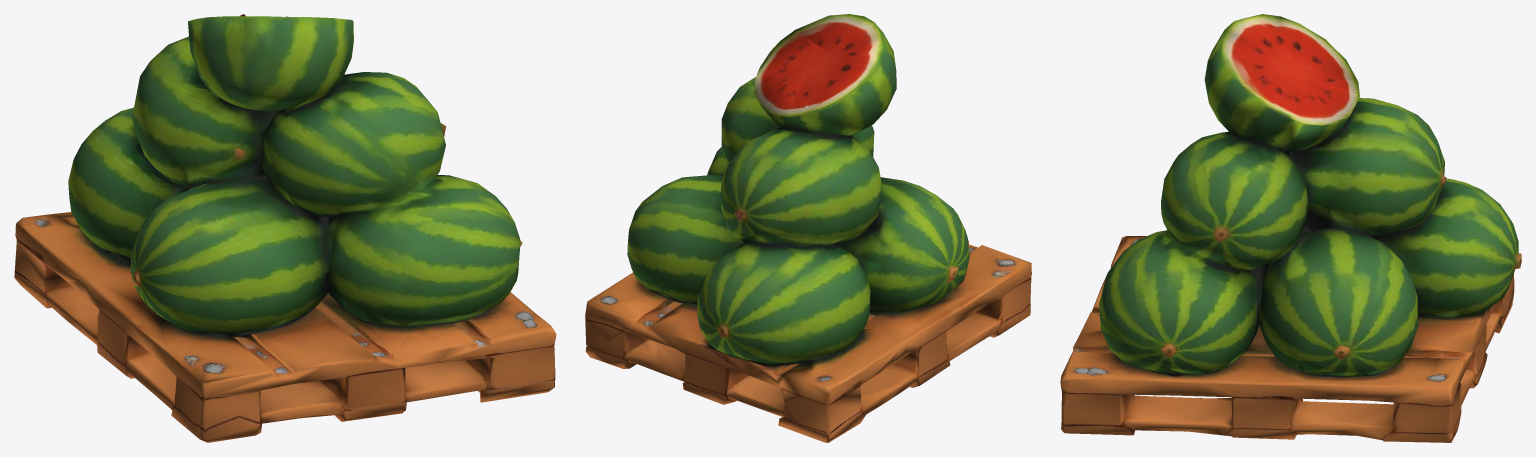
The model's file is ob_melons.glb.
The picture shows the model from 3 angles, left to right: view 1: azimuth 30°, elevation 25°; view 2: azimuth 150°, elevation 25°; view 3: azimuth 270°, elevation 25°; orthographic projection. The views are drawn at different scales.
Visible parts, largest first — view 1: tripo_node_852c696f-fcfa-488a-b7f5-a45a6e965e53; view 2: tripo_node_852c696f-fcfa-488a-b7f5-a45a6e965e53; view 3: tripo_node_852c696f-fcfa-488a-b7f5-a45a6e965e53.
Boxes of the visible parts, left/top/right/bottom form: tripo_node_852c696f-fcfa-488a-b7f5-a45a6e965e53: left=14, top=14, right=556, bottom=442; tripo_node_852c696f-fcfa-488a-b7f5-a45a6e965e53: left=585, top=14, right=1031, bottom=442; tripo_node_852c696f-fcfa-488a-b7f5-a45a6e965e53: left=1060, top=14, right=1521, bottom=442.
Bounding box in the file's own units: 0.7952 × 0.7817 × 1.
Materials: 1 (1 with a texture image).
